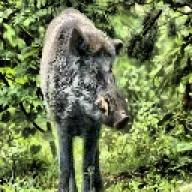boar: (37, 4, 129, 192)
